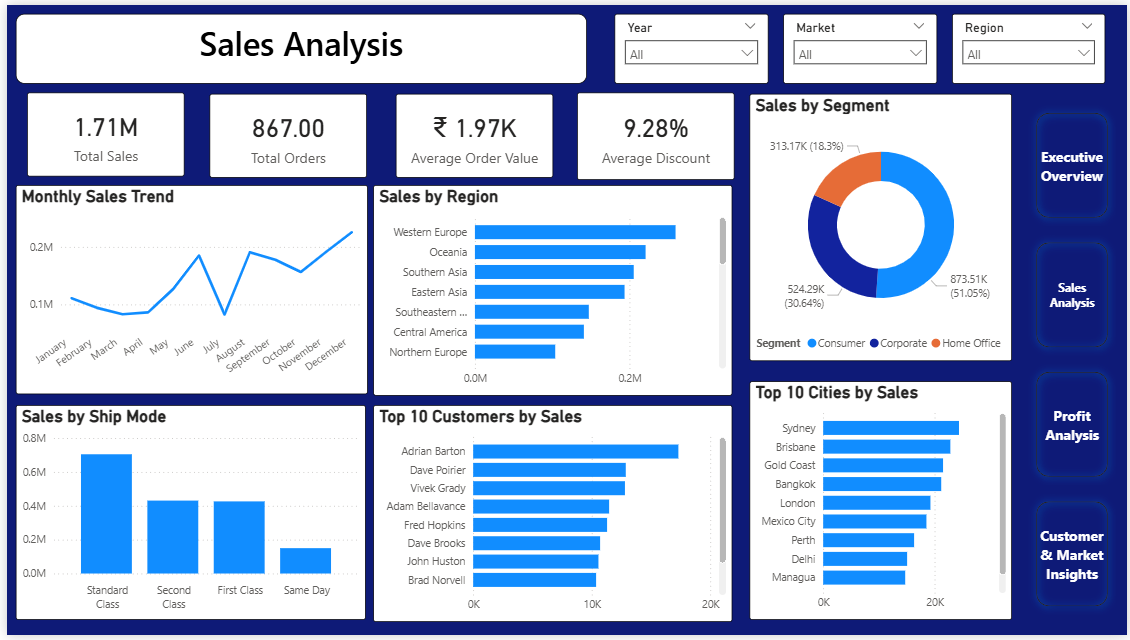

Layout of this report page (visuals, bound fields, positions):
{"tool":"powerbi","page":{"name":"Sales Analysis","canvas":[1280,720],"ordinal":1},"visuals":[{"type":"textbox","box":[10,10,652.9,80],"z":0},{"type":"slicer","fields":{"Values":["Global_Superstore_cleaned.Order Date.Variation.Date Hierarchy.Year"]},"box":[694.3,10,175.7,80],"z":1000},{"type":"slicer","fields":{"Values":["Global_Superstore_cleaned.Market"]},"box":[887.1,10,175.7,80],"z":2000},{"type":"slicer","fields":{"Values":["Global_Superstore_cleaned.Region"]},"box":[1080,10,175,80],"z":3000},{"type":"card","fields":{"Values":["Measures (2).Total Sales"]},"box":[22.9,100,180,95.7],"z":4000},{"type":"card","fields":{"Values":["Measures (2).Total Orders"]},"box":[231.4,101.4,180,95.7],"z":5000},{"type":"card","fields":{"Values":["Measures (2).Average Order Value"]},"box":[444.3,101.4,180,95.7],"z":6000},{"type":"card","fields":{"Values":["Measures (2).Average Discount"]},"box":[651.4,100,180,100],"z":7000},{"type":"lineChart","title":"Monthly Sales Trend","fields":{"Category":["Global_Superstore_cleaned.Order Date.Variation.Date Hierarchy.Month"],"Y":["Sum(Global_Superstore_cleaned.Sales)"]},"box":[9.8,206.1,402.5,239.3],"z":8000},{"type":"clusteredBarChart","title":"Sales by Region","fields":{"Category":["Global_Superstore_cleaned.Region"],"Y":["Sum(Global_Superstore_cleaned.Sales)"]},"box":[418.4,206.1,410,240.5],"z":9000},{"type":"donutChart","title":"Sales by Segment","fields":{"Category":["Global_Superstore_cleaned.Segment"],"Y":["Sum(Global_Superstore_cleaned.Sales)"]},"box":[848.6,101.4,300,305.7],"z":10000},{"type":"clusteredColumnChart","title":"Sales by Ship Mode","fields":{"Category":["Global_Superstore_cleaned.Ship Mode"],"Y":["Sum(Global_Superstore_cleaned.Sales)"]},"box":[9.8,457.7,400,245.4],"z":11000},{"type":"clusteredBarChart","title":"Top 10 Customers by Sales","fields":{"Category":["Global_Superstore_cleaned.Customer Name"],"Y":["Sum(Global_Superstore_cleaned.Sales)"]},"box":[418.4,456.4,410,247.9],"z":12000},{"type":"clusteredBarChart","title":"Top 10 Cities by Sales","fields":{"Category":["Global_Superstore_cleaned.City"],"Y":["Sum(Global_Superstore_cleaned.Sales)"]},"box":[848.6,430,300,272.9],"z":13000},{"type":"pageNavigator","box":[1167.1,114.3,100,584.3],"z":14000}]}

Visuals, with their boxes in screenshot pixels (x1, y1, x2, y2), scaled from the page's 1280x720 canvas onto the 1130x640 screenshot:
textbox: bbox(9, 9, 585, 80)
slicer - Global_Superstore_cleaned.Order Date.Variation.Date Hierarchy.Year: bbox(613, 9, 768, 80)
slicer - Global_Superstore_cleaned.Market: bbox(783, 9, 938, 80)
slicer - Global_Superstore_cleaned.Region: bbox(953, 9, 1108, 80)
card - Measures (2).Total Sales: bbox(20, 89, 179, 174)
card - Measures (2).Total Orders: bbox(204, 90, 363, 175)
card - Measures (2).Average Order Value: bbox(392, 90, 551, 175)
card - Measures (2).Average Discount: bbox(575, 89, 734, 178)
"Monthly Sales Trend" lineChart: bbox(9, 183, 364, 396)
"Sales by Region" clusteredBarChart: bbox(369, 183, 731, 397)
"Sales by Segment" donutChart: bbox(749, 90, 1014, 362)
"Sales by Ship Mode" clusteredColumnChart: bbox(9, 407, 362, 625)
"Top 10 Customers by Sales" clusteredBarChart: bbox(369, 406, 731, 626)
"Top 10 Cities by Sales" clusteredBarChart: bbox(749, 382, 1014, 625)
pageNavigator: bbox(1030, 102, 1119, 621)
